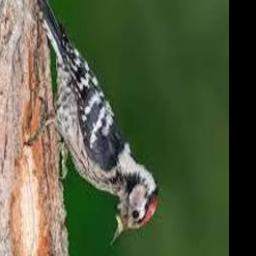Woodpecker: (25, 0, 160, 246)
